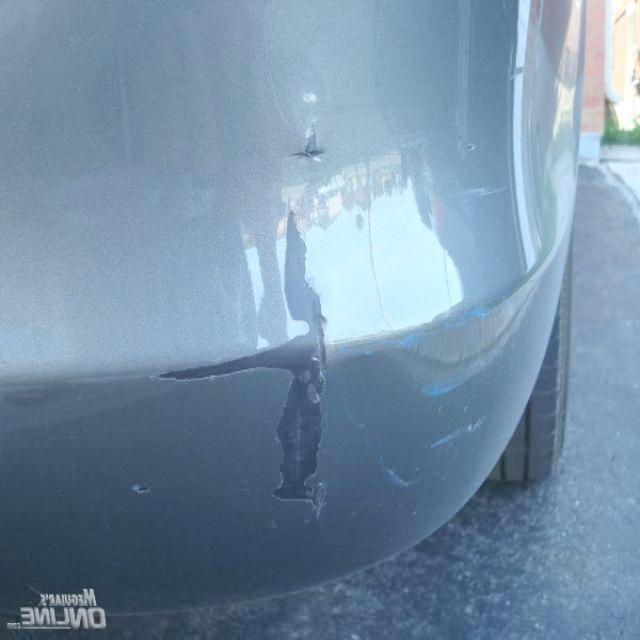minor: (276, 90, 326, 173), (429, 414, 488, 450)
moderate: (128, 177, 355, 526)
